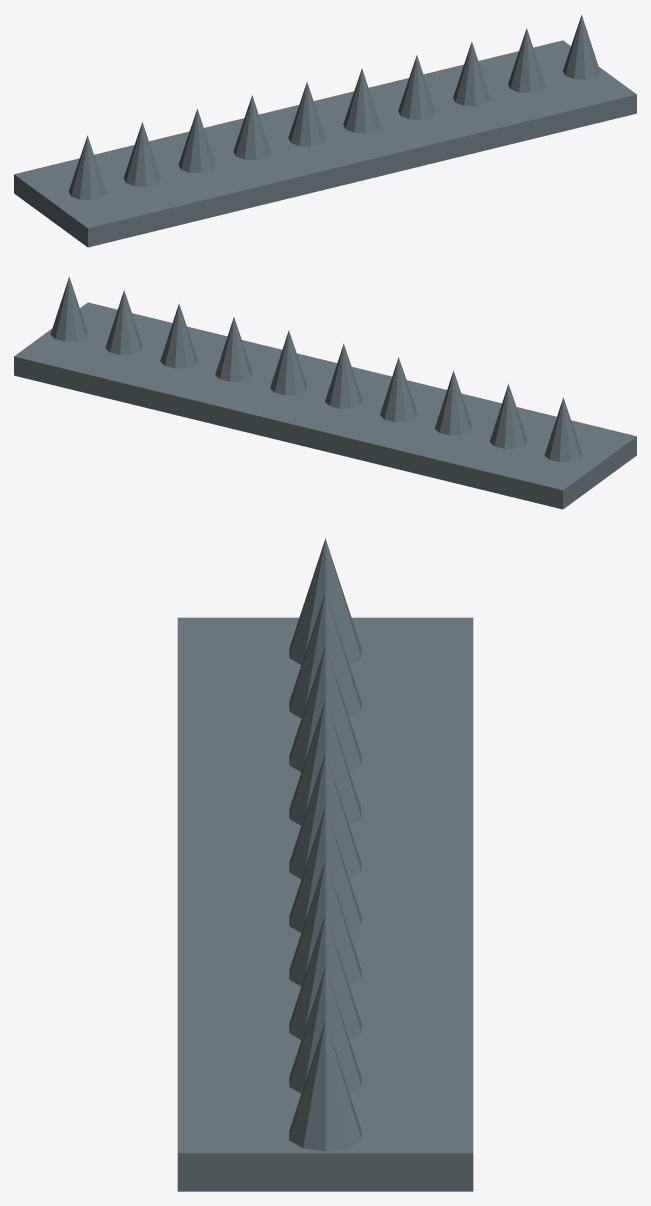
File: zombie-quarantine-streets-spiked-road-mat-e8abdb9b__19340.glb
3 views of the same model, one above another, from view 1: azimuth 30°, elevation 25°; view 2: azimuth 150°, elevation 25°; view 3: azimuth 270°, elevation 25° (orthographic). The views are drawn at different scales.
Visible parts, largest first — view 1: spiked-road-mat; view 2: spiked-road-mat; view 3: spiked-road-mat.
Part boxes in pixels (left/top/right/bottom): spiked-road-mat: left=14, top=15, right=636, bottom=247; spiked-road-mat: left=14, top=277, right=636, bottom=509; spiked-road-mat: left=177, top=538, right=473, bottom=1191.
Size of the model in its own units: 3 by 0.3999 by 0.6999.
